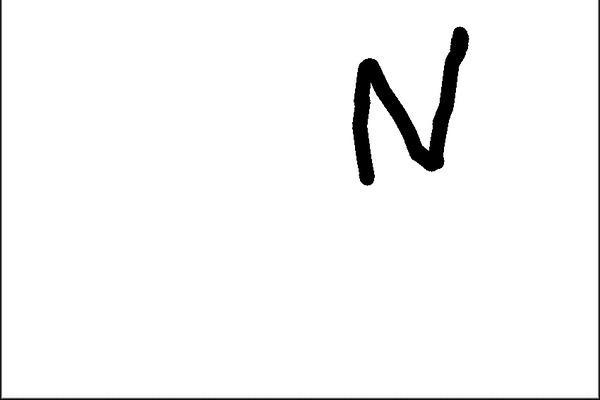N: (346, 22, 471, 187)
